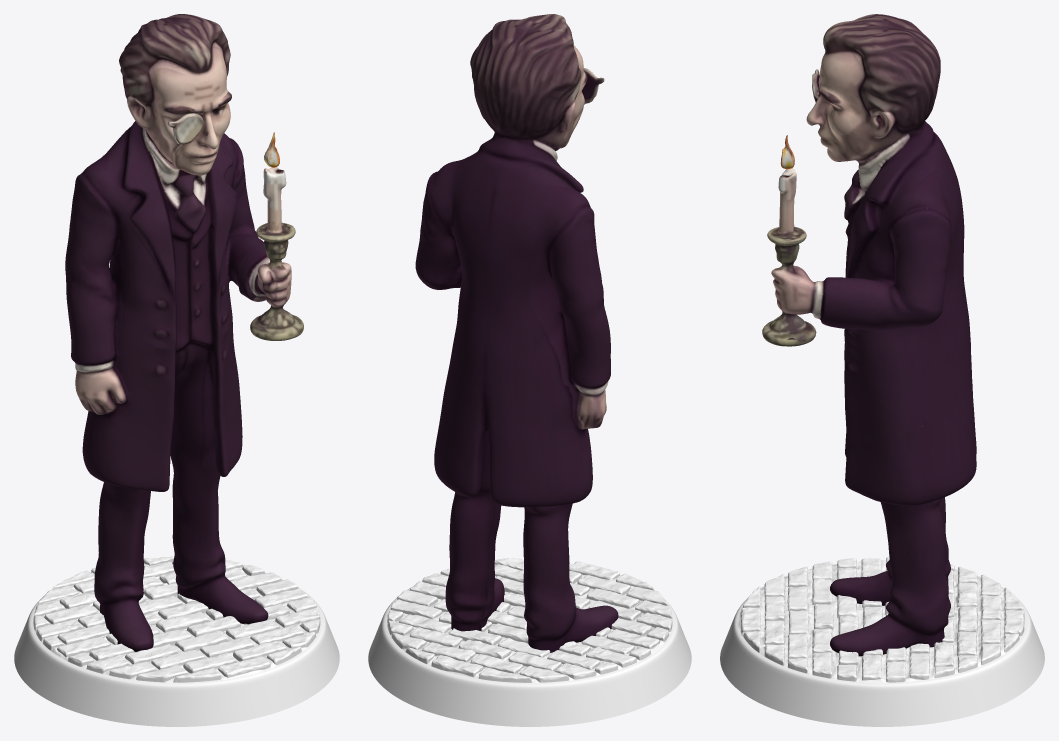
Rendered from diretor_base_acesa.glb.
The picture shows the model from 3 angles, left to right: view 1: azimuth 30°, elevation 25°; view 2: azimuth 150°, elevation 25°; view 3: azimuth 270°, elevation 25°; orthographic projection.
Visible parts, largest first — view 1: mesh_node; view 2: mesh_node; view 3: mesh_node.
Part boxes in pixels (<box>): mesh_node: <box>14,14,339,726</box>; mesh_node: <box>368,14,691,726</box>; mesh_node: <box>720,14,1044,726</box>.
Bounding box in the file's own units: 0.4318 × 0.9306 × 0.4318.
Materials: 2 (1 with a texture image).
